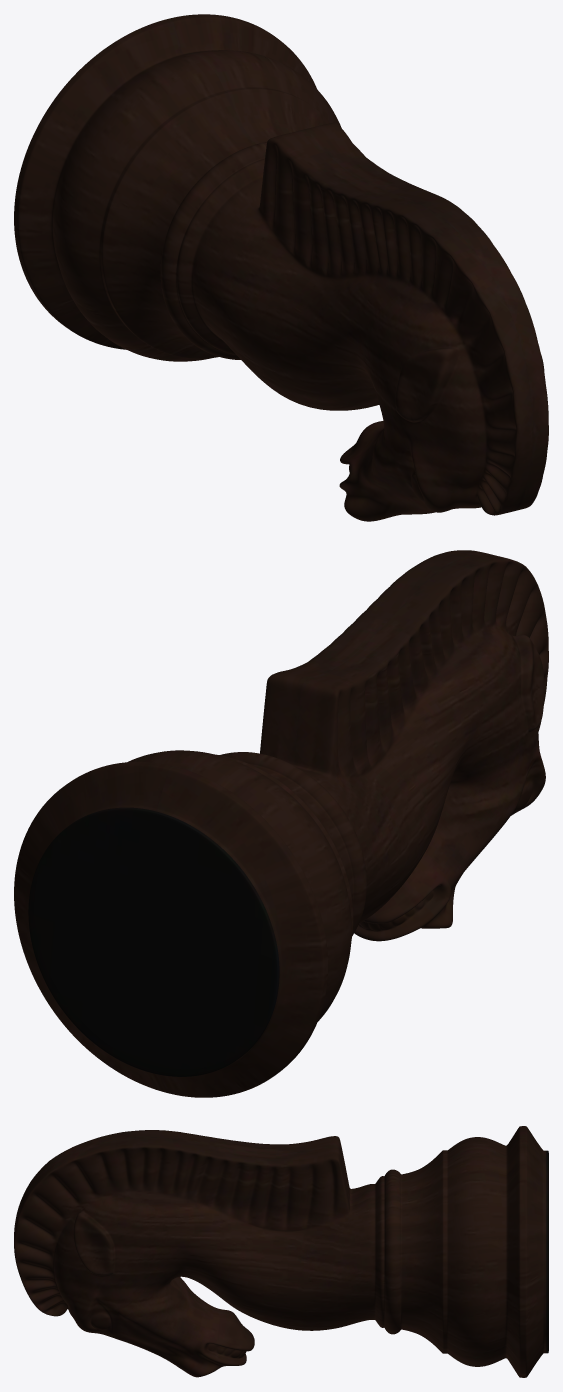
The model's file is knight.glb.
3 renders of one model, top to bottom at view 1: azimuth 30°, elevation 25°; view 2: azimuth 150°, elevation 25°; view 3: azimuth 270°, elevation 25°, orthographic. The views are drawn at different scales.
Parts seen in each view (by area): view 1: Node1; view 2: Node1; view 3: Node1.
Part boxes in pixels (bbox=[...]): Node1: bbox=[14, 14, 548, 521]; Node1: bbox=[14, 550, 548, 1097]; Node1: bbox=[14, 1126, 548, 1377].
Size of the model in its own units: 4.62 by 4.63 by 9.82.
1 material, 1 textured.
